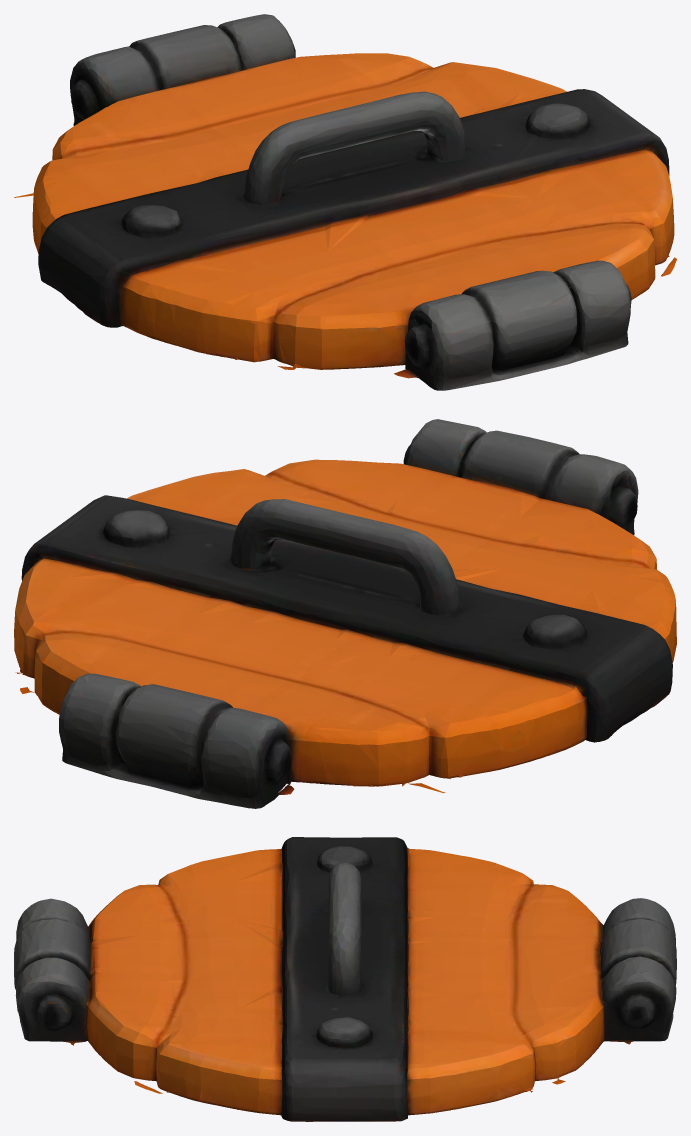
Rendered from lid_top.glb.
3 renders of one model, top to bottom at view 1: azimuth 30°, elevation 25°; view 2: azimuth 150°, elevation 25°; view 3: azimuth 270°, elevation 25°, orthographic. The views are drawn at different scales.
Visible parts, largest first — view 1: source_surface_0; view 2: source_surface_0; view 3: source_surface_0.
Part boxes in pixels (<box>): source_surface_0: <box>14,14,676,390</box>; source_surface_0: <box>14,419,676,808</box>; source_surface_0: <box>14,837,676,1121</box>.
Size of the model in its own units: 0.2275 by 0.0478 by 0.2624.
1 material, 1 textured.
